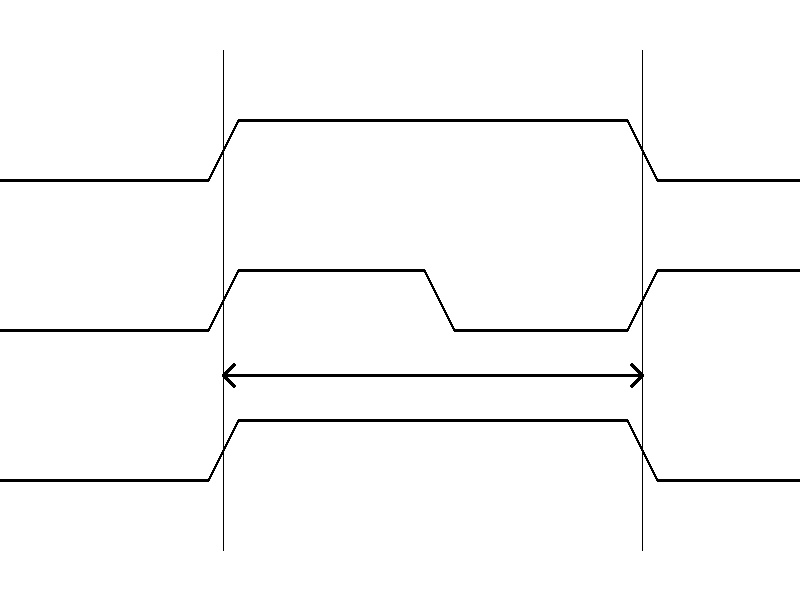double_arrow: (223, 360, 642, 390)
